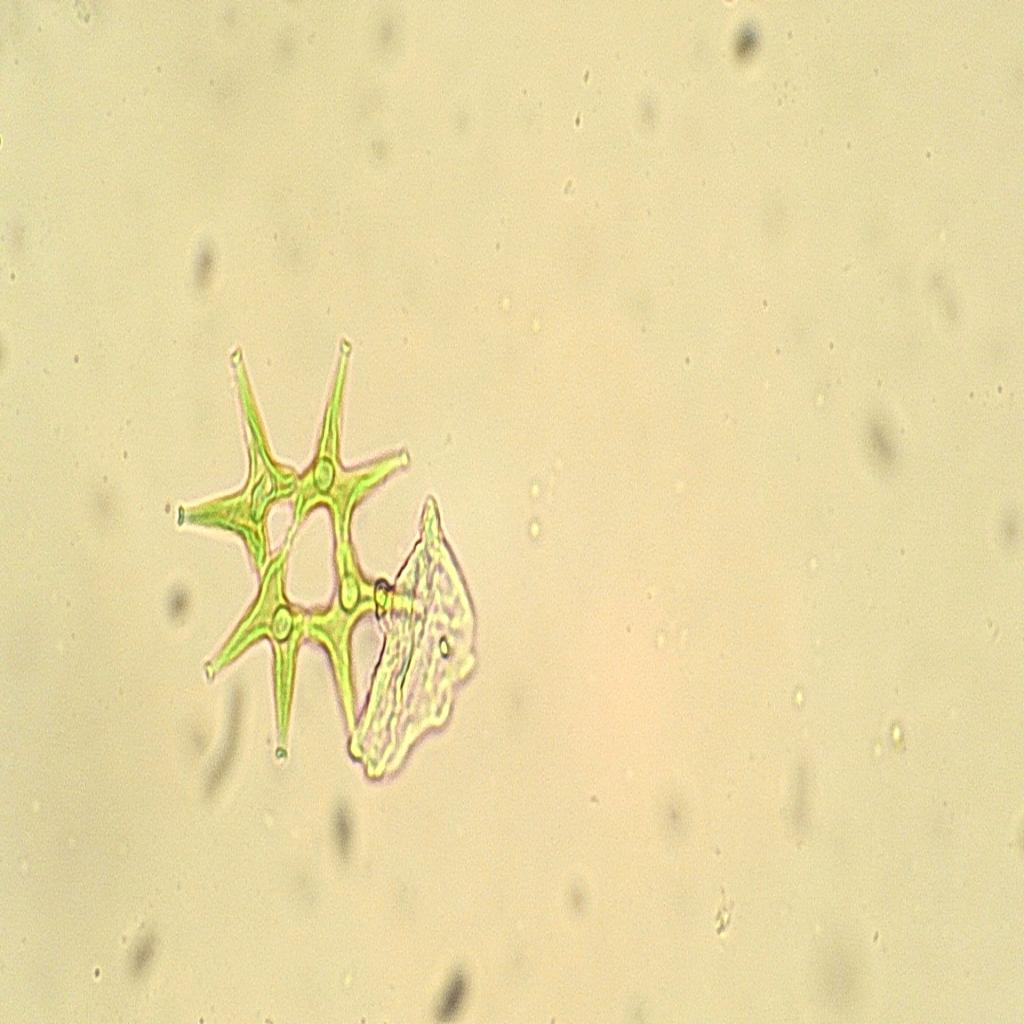Pediastrum_75FO: (154, 326, 456, 779)
